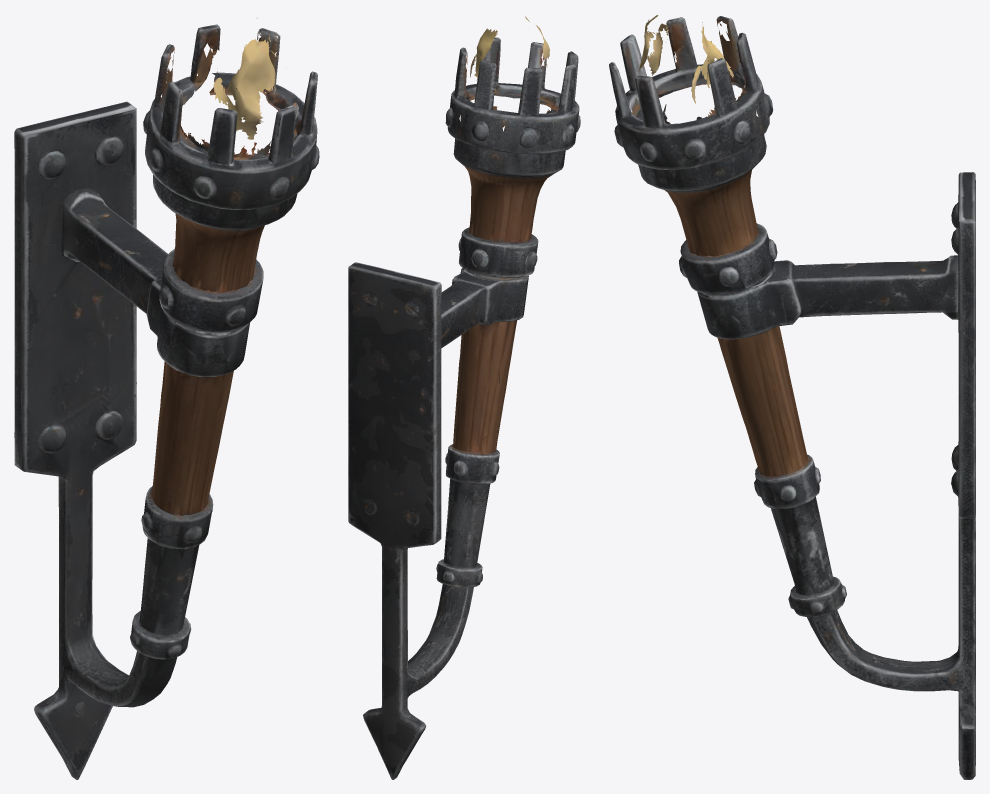
The model's file is TorchWall.glb.
3 views of the same model, side by side, from view 1: azimuth 30°, elevation 25°; view 2: azimuth 150°, elevation 25°; view 3: azimuth 270°, elevation 25° (orthographic). The views are drawn at different scales.
Visible parts, largest first — view 1: TorchWall; view 2: TorchWall; view 3: TorchWall.
Part boxes in pixels (left/top/right/bottom): TorchWall: left=14, top=18, right=319, bottom=779; TorchWall: left=348, top=16, right=580, bottom=779; TorchWall: left=609, top=15, right=975, bottom=779.
Bounding box in the file's own units: 0.1802 × 0.9597 × 0.4163.
Materials: 1 (1 with a texture image).
